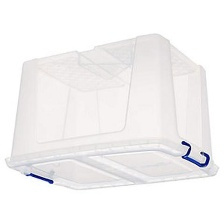plastic_box: (0, 28, 224, 199)
